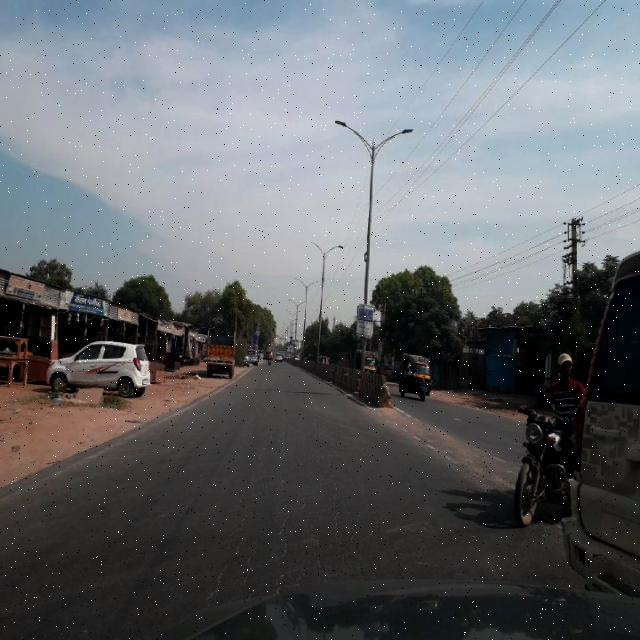D20: (196, 468, 392, 586)
